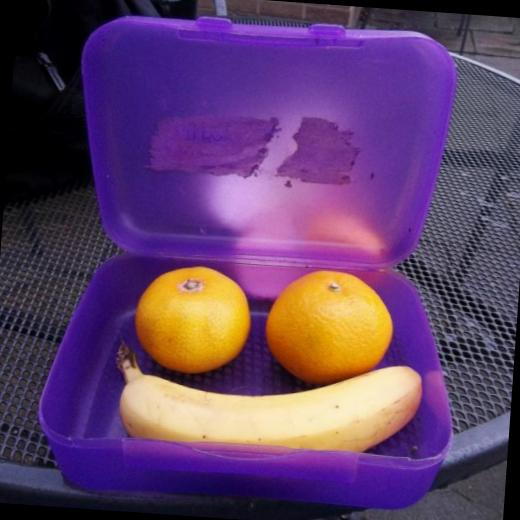Grape: (262, 268, 394, 388), (134, 262, 260, 374)
